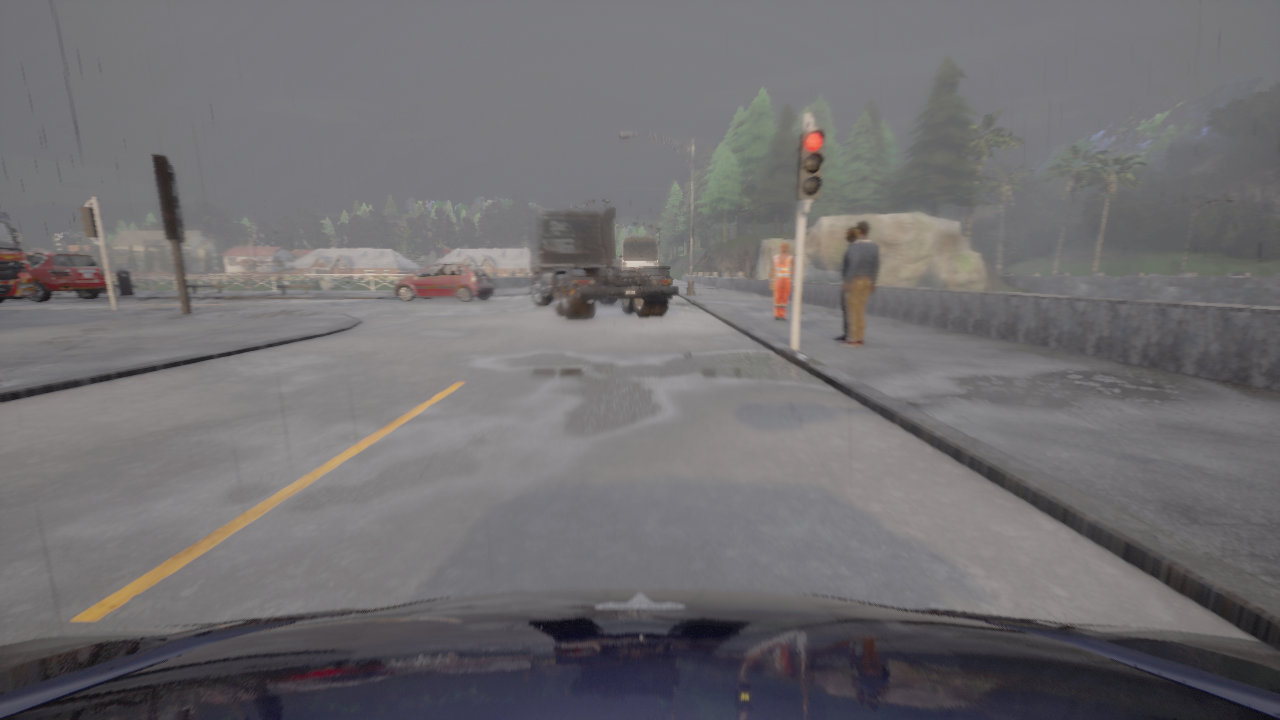cyclist: (0, 588, 1279, 719), (522, 208, 676, 318), (7, 252, 108, 302), (393, 263, 494, 302), (619, 236, 658, 267)
pedestrian: (838, 221, 879, 347), (832, 226, 856, 341), (770, 242, 794, 320)
